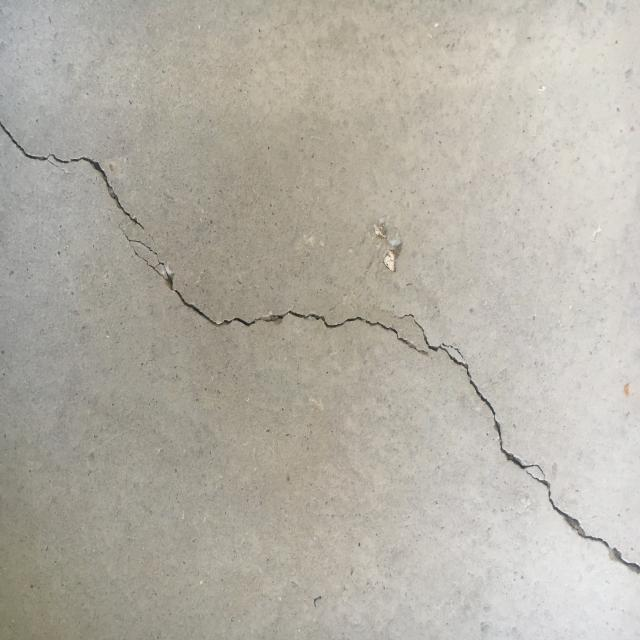SurfaceCrack: (0, 4, 638, 590)
